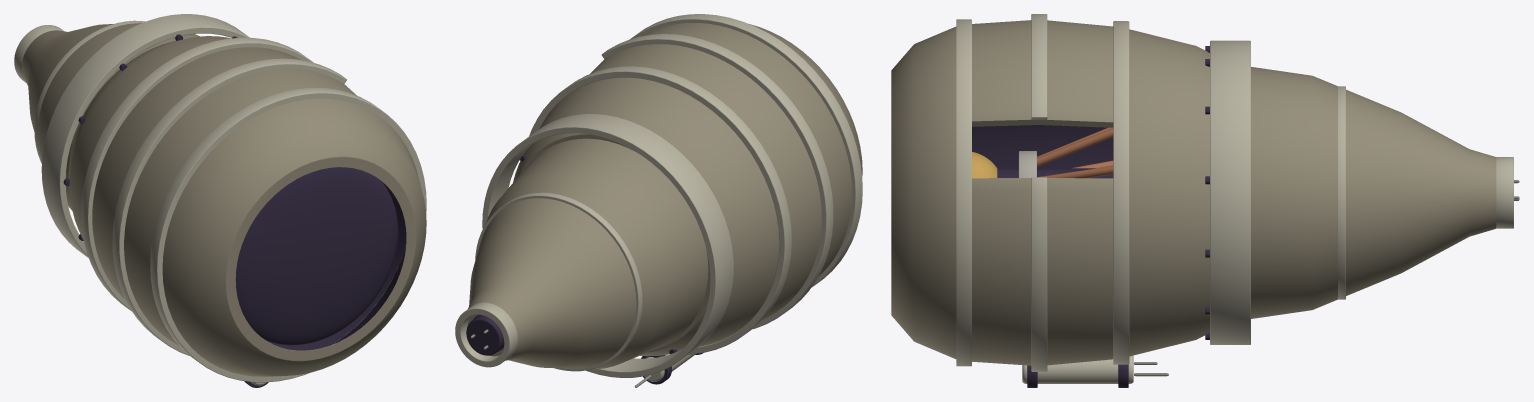
3 renders of one model, left to right at view 1: azimuth 30°, elevation 25°; view 2: azimuth 150°, elevation 25°; view 3: azimuth 270°, elevation 25°, orthographic. The views are drawn at different scales.
Parts seen in each view (by area): view 1: Open circular front lip, Recessed dark end face, Windowed enclosure wall, Broad mounting collar, Enclosure reinforcing band, Tapered connector pressure shell, Window interrupted reinforcing band, Rear enclosure, Enclosure reinforcing band.001, Connector service ring, Connector terminal lip; view 2: Tapered connector pressure shell, Windowed enclosure wall, Rear enclosure, Broad mounting collar, Enclosure reinforcing band.001, Window interrupted reinforcing band, Enclosure reinforcing band, Connector service ring, Connector terminal lip, Recessed connector interior, Open circular front lip; view 3: Tapered connector pressure shell, Windowed enclosure wall, Rear enclosure, Open circular front lip, Broad mounting collar, Enclosure reinforcing band.001, Enclosure reinforcing band, Window interrupted reinforcing band, External service accumulator, Connector service ring, Connector terminal lip, Internal copper feed.002 (+2 smaller).
Part boxes in pixels (bbox=[...]): Open circular front lip: bbox=[162, 98, 426, 376]; Recessed dark end face: bbox=[235, 167, 398, 345]; Windowed enclosure wall: bbox=[92, 47, 406, 350]; Broad mounting collar: bbox=[41, 14, 249, 257]; Enclosure reinforcing band: bbox=[150, 87, 426, 382]; Tapered connector pressure shell: bbox=[22, 23, 200, 210]; Window interrupted reinforcing band: bbox=[112, 58, 346, 355]; Rear enclosure: bbox=[68, 36, 230, 239]; Enclosure reinforcing band.001: bbox=[81, 37, 313, 311]; Connector service ring: bbox=[34, 20, 145, 163]; Connector terminal lip: bbox=[14, 25, 63, 82]; Tapered connector pressure shell: bbox=[467, 138, 708, 369]; Windowed enclosure wall: bbox=[590, 22, 852, 319]; Rear enclosure: bbox=[513, 77, 779, 356]; Broad mounting collar: bbox=[482, 114, 733, 377]; Enclosure reinforcing band.001: bbox=[524, 66, 791, 354]; Window interrupted reinforcing band: bbox=[601, 34, 833, 328]; Enclosure reinforcing band: bbox=[630, 14, 862, 287]; Connector service ring: bbox=[475, 192, 642, 371]; Connector terminal lip: bbox=[455, 302, 517, 367]; Recessed connector interior: bbox=[466, 315, 504, 355]; Open circular front lip: bbox=[749, 24, 862, 175]; Tapered connector pressure shell: bbox=[1251, 67, 1496, 318]; Windowed enclosure wall: bbox=[972, 20, 1113, 365]; Rear enclosure: bbox=[1129, 29, 1209, 356]; Open circular front lip: bbox=[891, 26, 956, 358]; Broad mounting collar: bbox=[1210, 40, 1250, 344]; Enclosure reinforcing band.001: bbox=[1113, 21, 1129, 364]; Enclosure reinforcing band: bbox=[956, 19, 971, 366]; Window interrupted reinforcing band: bbox=[1031, 14, 1047, 371]; External service accumulator: bbox=[1022, 355, 1133, 383]; Connector service ring: bbox=[1338, 86, 1345, 299]; Connector terminal lip: bbox=[1496, 157, 1513, 228]; Internal copper feed.002: bbox=[1037, 128, 1113, 166].
Bounding box in the file's own units: 2.04 × 2.24 × 3.59.
